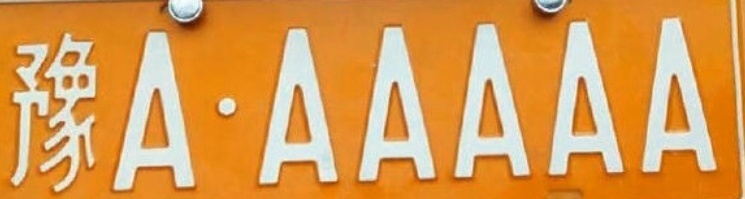A: (114, 32, 194, 190)
